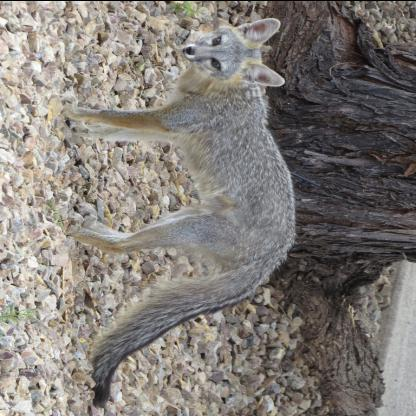zorro: (52, 14, 302, 415)
